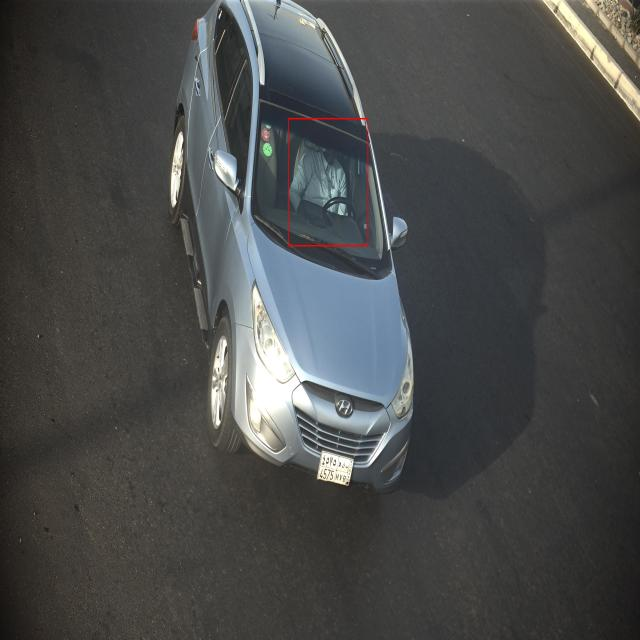windshield: (251, 91, 393, 279)
